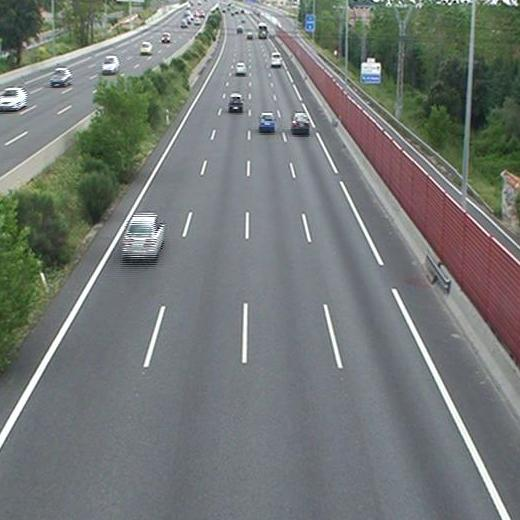bus: (258, 24, 267, 39)
car: (123, 216, 164, 257), (291, 113, 309, 132), (259, 113, 276, 130), (228, 95, 244, 112), (236, 63, 247, 74), (245, 30, 253, 39)
van: (270, 52, 282, 67)
